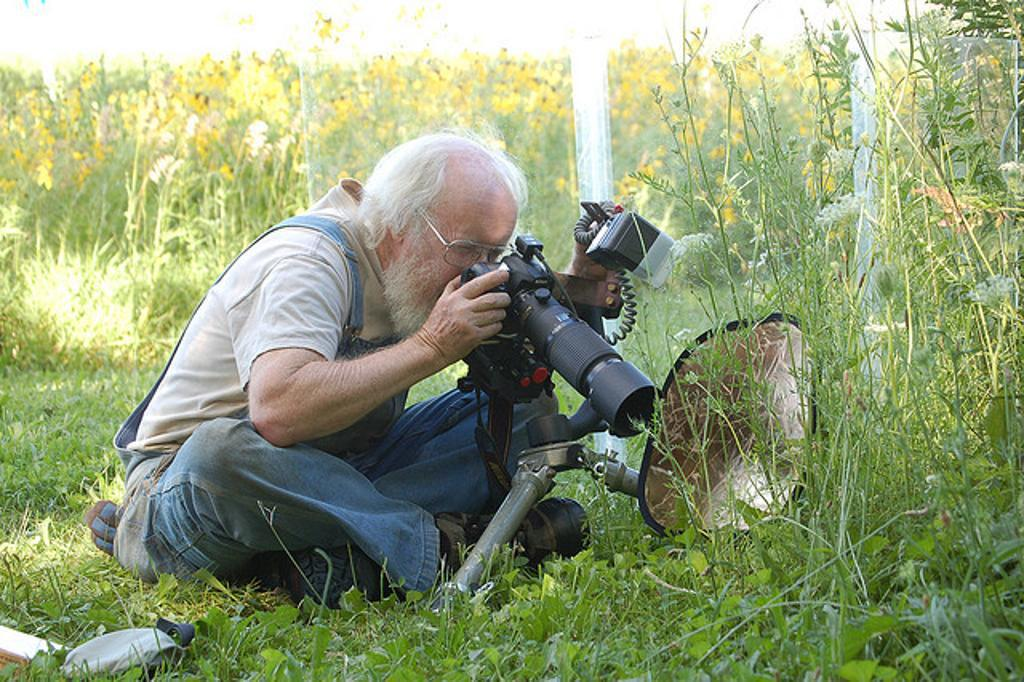face: (401, 169, 517, 327)
